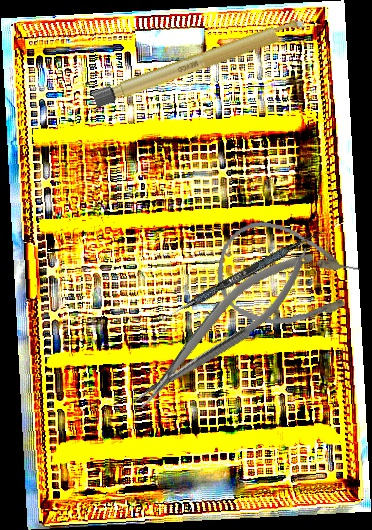Cannula: (209, 214, 366, 340)
Needle Holder: (118, 235, 328, 419)
Scalpel Handle: (91, 15, 308, 109)
Spatula Surgical: (150, 223, 325, 332)
